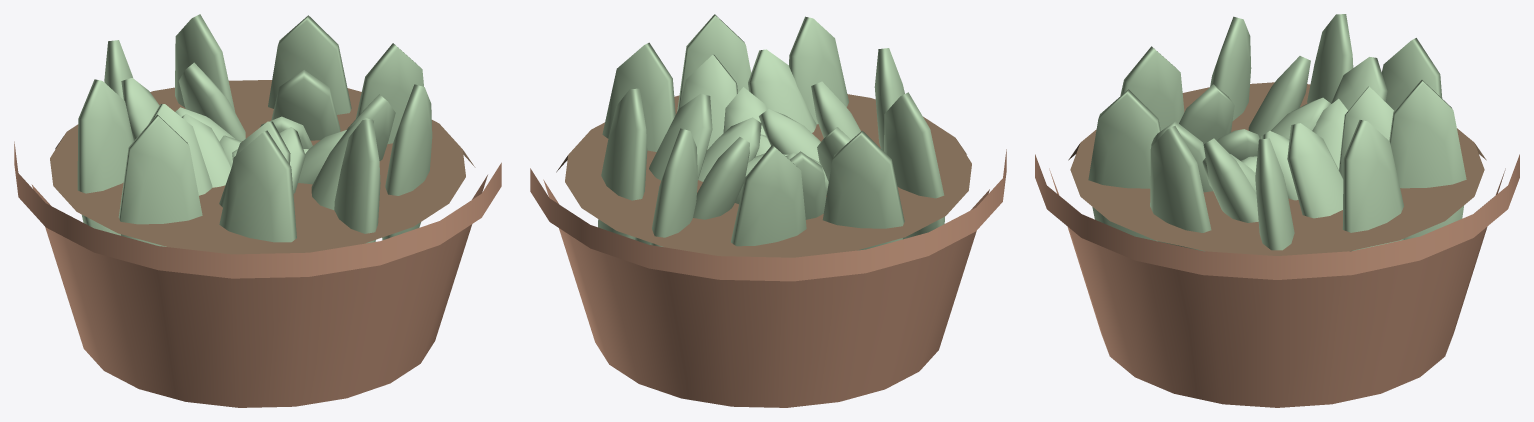
File: plant-suculenta.glb
3 renders of one model, left to right at view 1: azimuth 30°, elevation 25°; view 2: azimuth 150°, elevation 25°; view 3: azimuth 270°, elevation 25°, orthographic. The views are drawn at different scales.
Parts seen in each view (by area): view 1: Vaso, Roseta, Terra; view 2: Vaso, Roseta, Terra; view 3: Vaso, Roseta, Terra.
Boxes of the visible parts, left/top/right/bottom form: Vaso: left=14, top=141, right=501, bottom=407; Roseta: left=77, top=14, right=432, bottom=246; Terra: left=50, top=80, right=475, bottom=254; Vaso: left=530, top=149, right=1006, bottom=407; Roseta: left=598, top=14, right=944, bottom=250; Terra: left=556, top=94, right=971, bottom=257; Vaso: left=1035, top=154, right=1519, bottom=407; Roseta: left=1088, top=14, right=1466, bottom=251; Terra: left=1068, top=82, right=1486, bottom=255.
Bounding box in the file's own units: 1.1 × 0.647 × 1.1.
